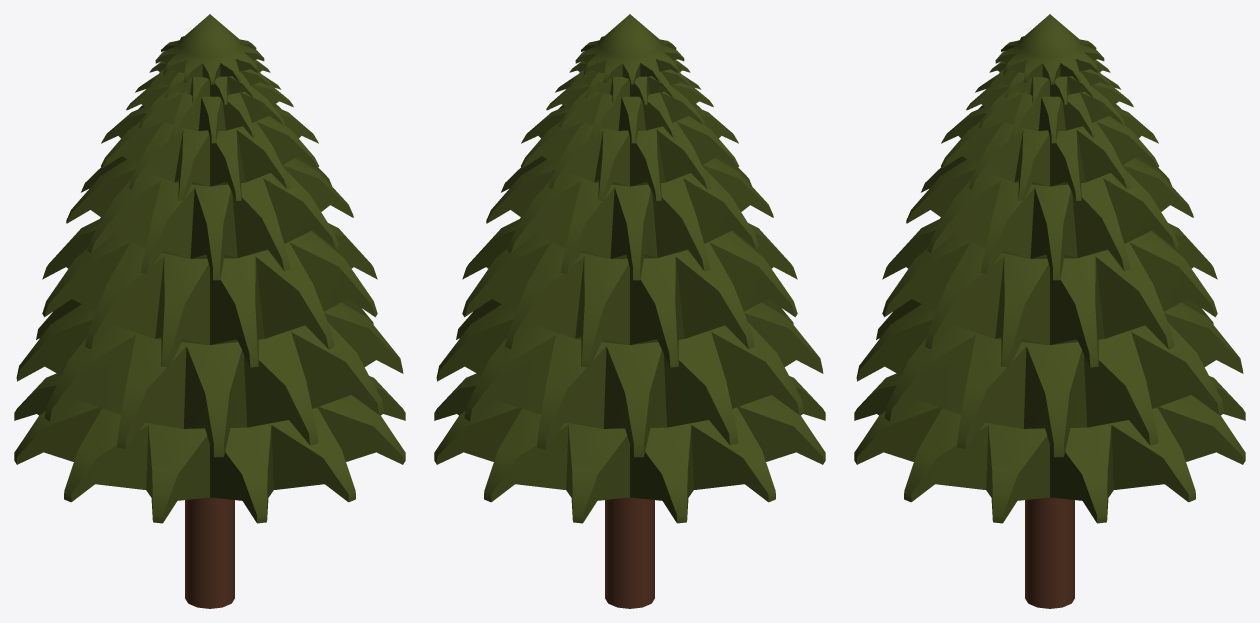
The model's file is PineTreeSm_20210127.fbx.
The picture shows the model from 3 angles, left to right: view 1: azimuth 30°, elevation 25°; view 2: azimuth 150°, elevation 25°; view 3: azimuth 270°, elevation 25°; orthographic projection.
Visible parts, largest first — view 1: Tree; view 2: Tree; view 3: Tree.
Part boxes in pixels (x1,y1,x2,y2): Tree: (14,14,405,608); Tree: (434,14,825,608); Tree: (854,14,1245,608).
Size of the model in its own units: 1.18 by 1.94 by 1.18.
